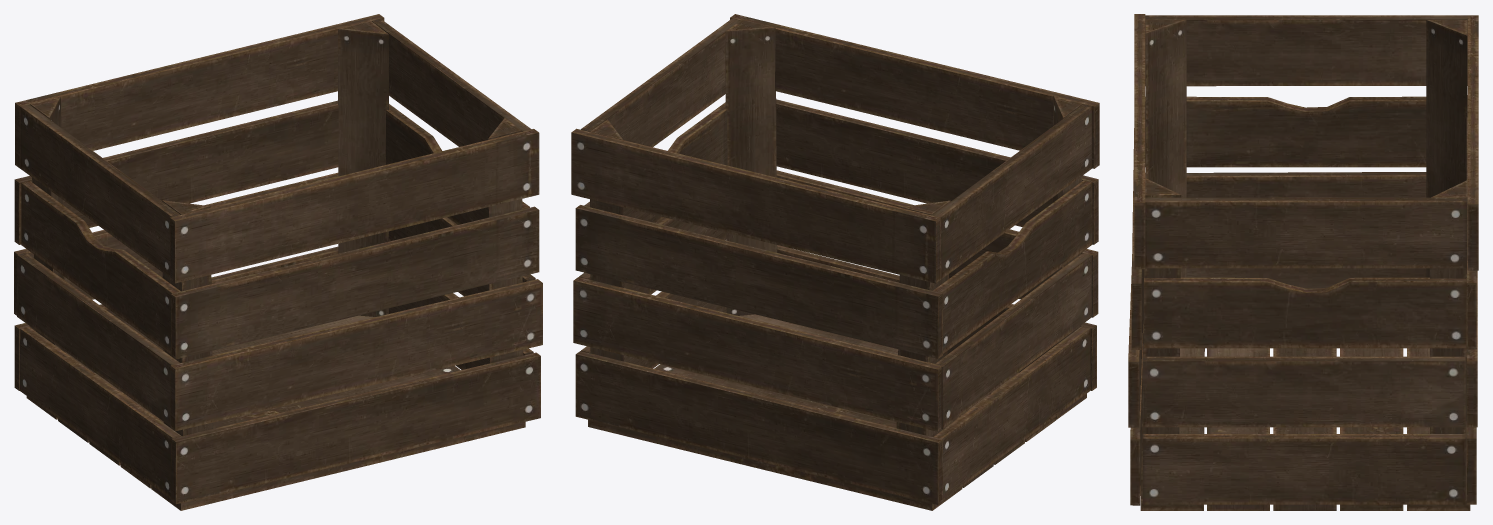
Rendered from crate_wood.glb.
3 views of the same model, side by side, from view 1: azimuth 30°, elevation 25°; view 2: azimuth 150°, elevation 25°; view 3: azimuth 270°, elevation 25° (orthographic). The views are drawn at different scales.
Parts seen in each view (by area): view 1: crate_wood; view 2: crate_wood; view 3: crate_wood.
Part boxes in pixels (x1,y1,x2,y2): crate_wood: (14, 14, 542, 510); crate_wood: (571, 14, 1099, 510); crate_wood: (1128, 14, 1478, 510).
Bounding box in the file's own units: 0.487 × 0.3759 × 0.3791.
1 material, 1 textured.
